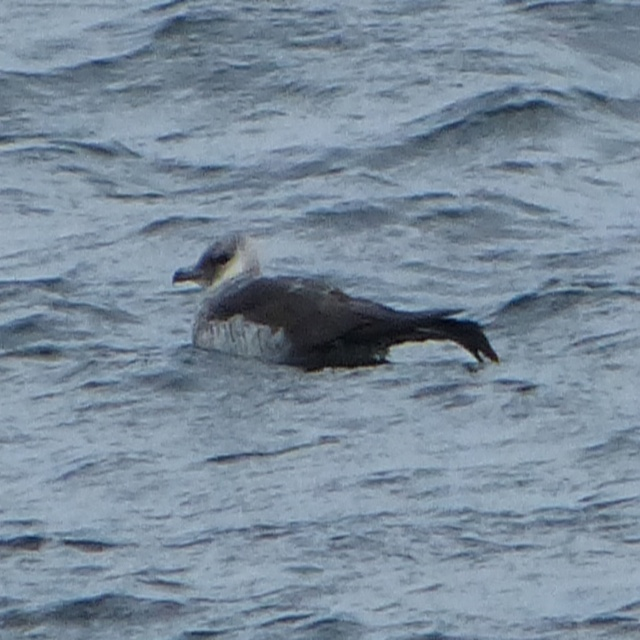Duck: (171, 228, 498, 373)
